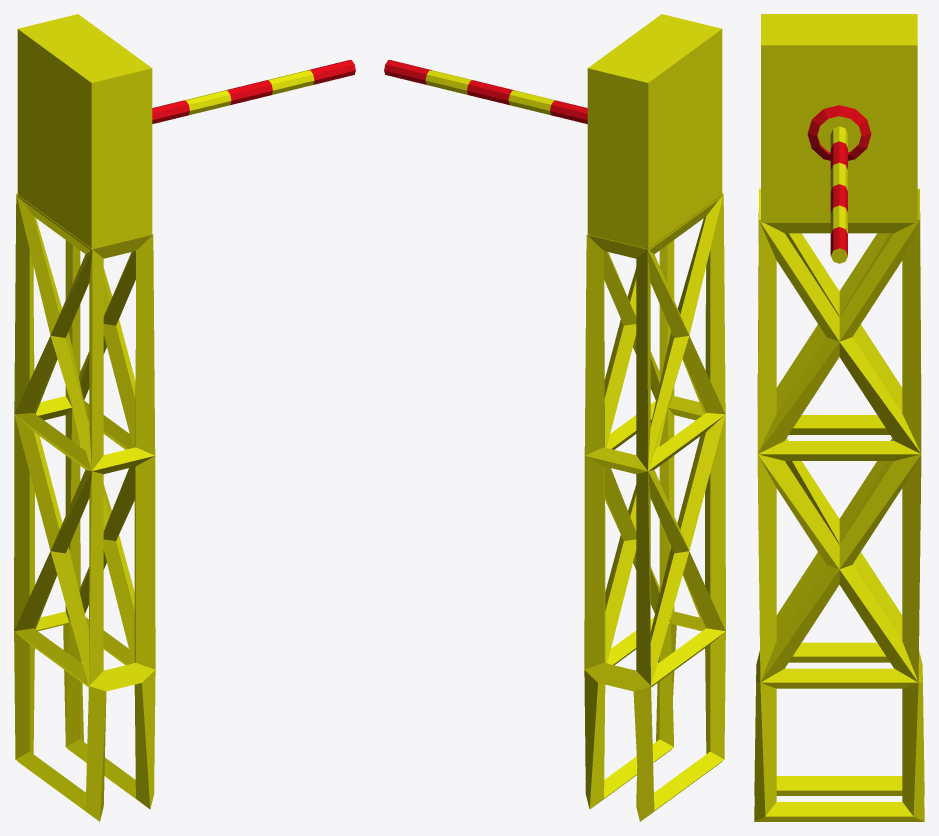
The model's file is Pole.fbx.
3 renders of one model, left to right at view 1: azimuth 30°, elevation 25°; view 2: azimuth 150°, elevation 25°; view 3: azimuth 270°, elevation 25°, orthographic. The views are drawn at different scales.
Visible parts, largest first — view 1: PoleVailt, Pole; view 2: PoleVailt, Pole; view 3: PoleVailt, Pole.
Part boxes in pixels (bbox=[...]): PoleVailt: bbox=[14, 14, 155, 821]; Pole: bbox=[152, 60, 355, 123]; PoleVailt: bbox=[584, 14, 725, 821]; Pole: bbox=[384, 60, 587, 123]; PoleVailt: bbox=[754, 14, 924, 821]; Pole: bbox=[830, 126, 847, 263].
Bounding box in the file's own units: 496 × 1161 × 230.
